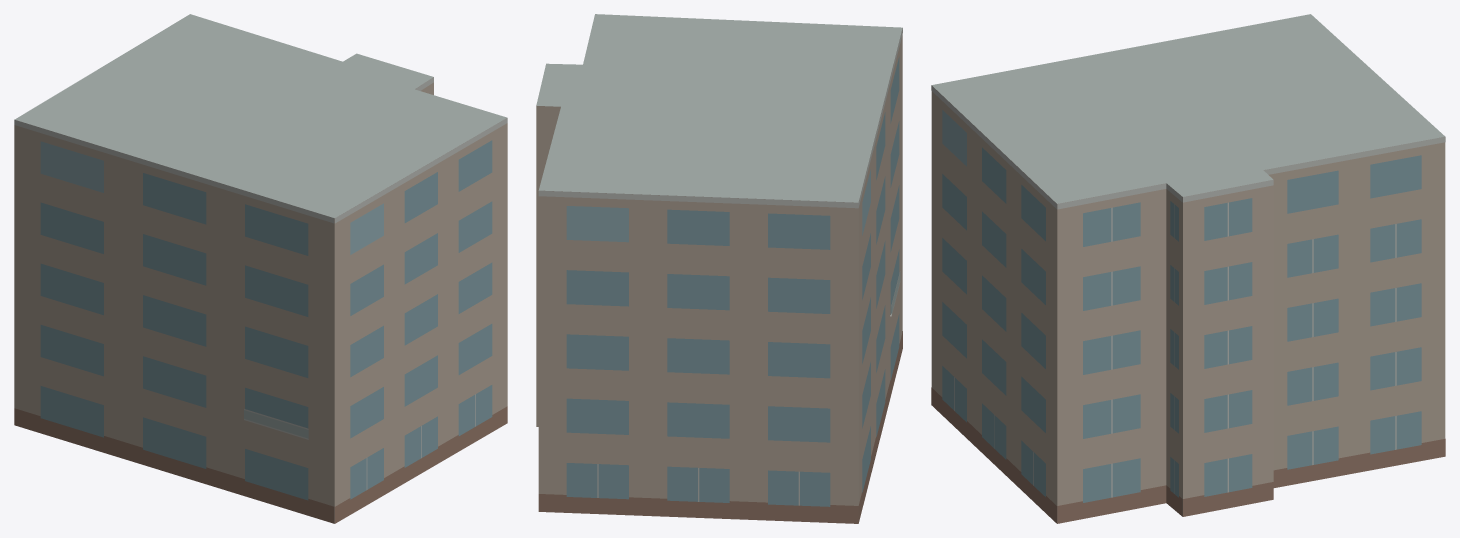
File: survey-upis-32920876.glb
The picture shows the model from 3 angles, left to right: view 1: azimuth 30°, elevation 25°; view 2: azimuth 150°, elevation 25°; view 3: azimuth 270°, elevation 25°; orthographic projection. The views are drawn at different scales.
Parts seen in each view (by area): view 1: survey-upis-32920876.tmp; view 2: survey-upis-32920876.tmp; view 3: survey-upis-32920876.tmp.
Boxes of the visible parts, x1,y1,x2,y2 form: survey-upis-32920876.tmp: (14,14,507,523); survey-upis-32920876.tmp: (536,14,902,523); survey-upis-32920876.tmp: (931,14,1445,523).
Size of the model in its own units: 17.71 by 13.9 by 20.25.
